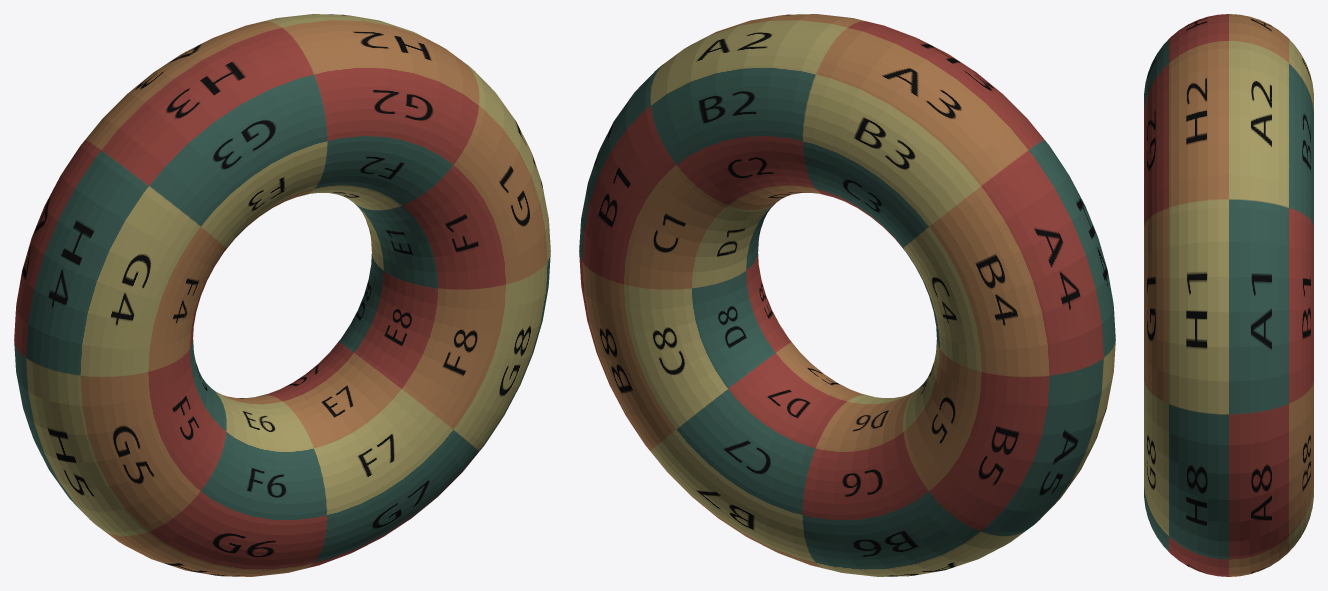
File: texture_torus_R15_r25.glb
3 views of the same model, side by side, from view 1: azimuth 30°, elevation 25°; view 2: azimuth 150°, elevation 25°; view 3: azimuth 270°, elevation 25° (orthographic). The views are drawn at different scales.
Parts seen in each view (by area): view 1: world; view 2: world; view 3: world.
Part boxes in pixels (x1,y1,x2,y2): world: (14,14,550,576); world: (579,14,1115,576); world: (1144,14,1313,576).
Size of the model in its own units: 28.67 by 28.61 by 8.65.
Materials: 1 (1 with a texture image).
